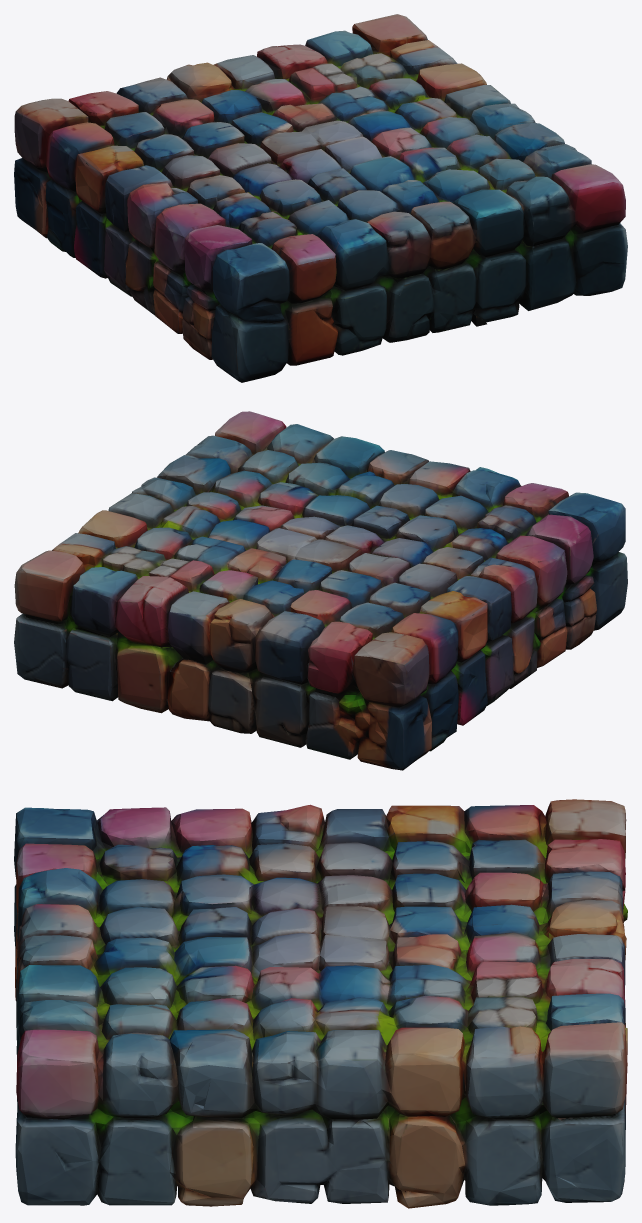
Rendered from pavement.glb.
3 views of the same model, one above another, from view 1: azimuth 30°, elevation 25°; view 2: azimuth 150°, elevation 25°; view 3: azimuth 270°, elevation 25° (orthographic). The views are drawn at different scales.
Visible parts, largest first — view 1: world; view 2: world; view 3: world.
Part boxes in pixels (x1,y1,x2,y2): world: (14, 14, 627, 382); world: (14, 411, 627, 770); world: (14, 799, 627, 1208).
Size of the model in its own units: 0.9935 by 0.3003 by 0.9916.
1 material, 1 textured.
